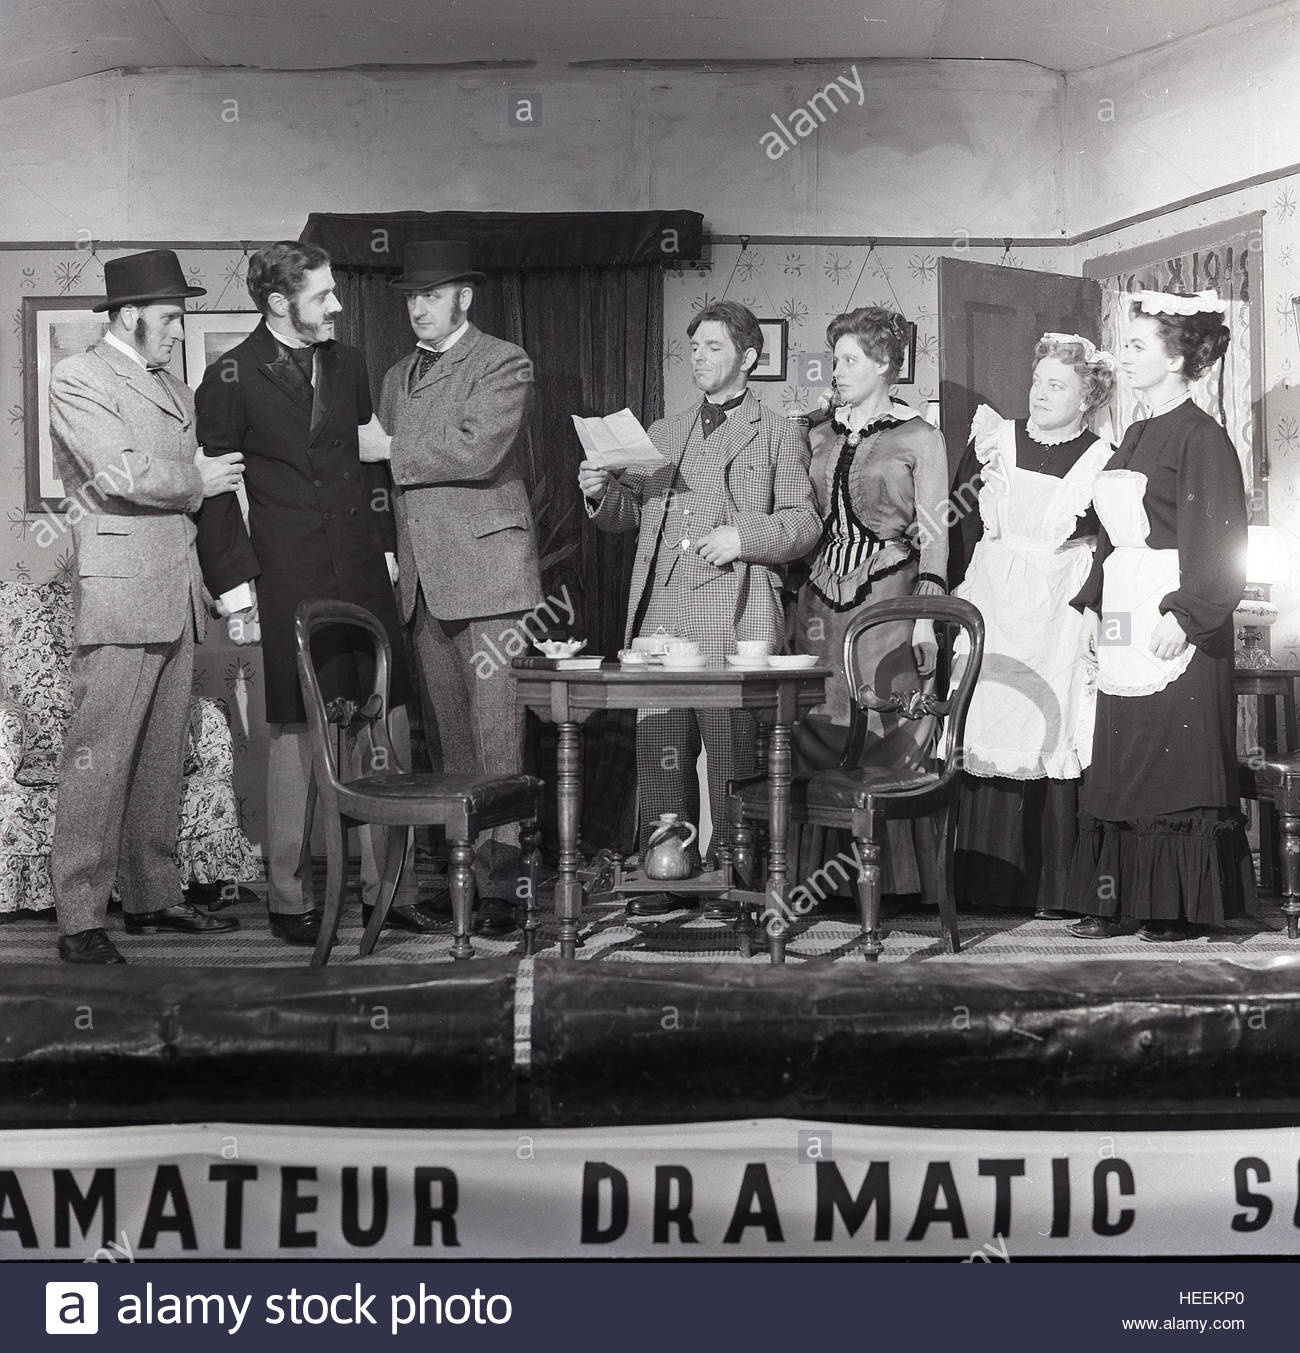bad: (1012, 364, 1075, 426), (674, 323, 736, 384), (391, 274, 453, 336), (1096, 323, 1157, 384), (301, 274, 362, 336), (816, 343, 867, 395)
